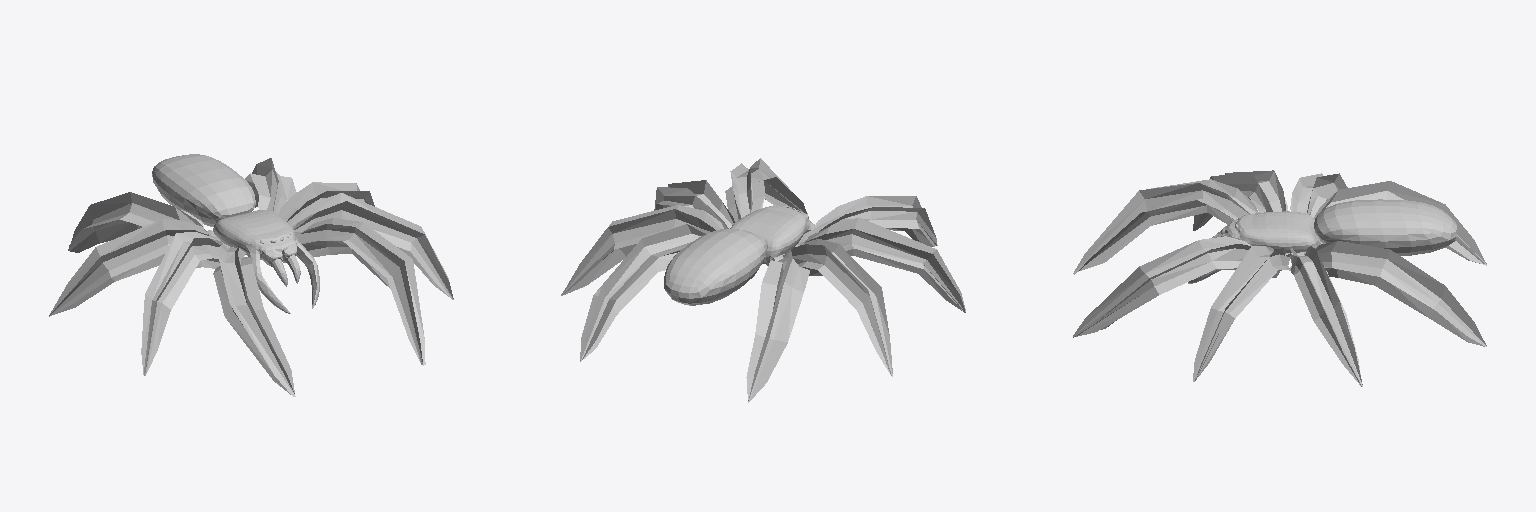
Rendered from spider9.obj.
3 renders of one model, left to right at view 1: azimuth 30°, elevation 25°; view 2: azimuth 150°, elevation 25°; view 3: azimuth 270°, elevation 25°, orthographic.
Parts seen in each view (by area): view 1: Cube_Cube.002; view 2: Cube_Cube.002; view 3: Cube_Cube.002.
Part boxes in pixels (x1,y1,x2,y2): Cube_Cube.002: (49, 154, 453, 396); Cube_Cube.002: (561, 158, 965, 402); Cube_Cube.002: (1073, 170, 1486, 386).
Size of the model in its own units: 9.2 by 2.65 by 9.93.